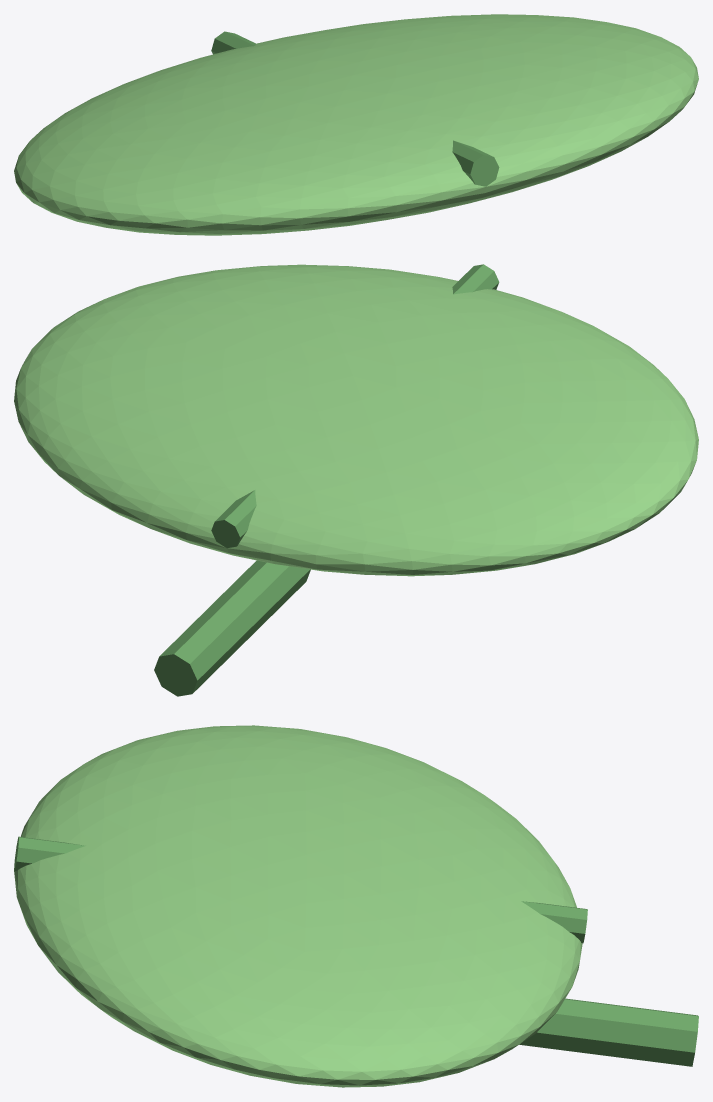
File: leaf.glb
3 views of the same model, one above another, from view 1: azimuth 30°, elevation 25°; view 2: azimuth 150°, elevation 25°; view 3: azimuth 270°, elevation 25° (orthographic). The views are drawn at different scales.
Parts seen in each view (by area): view 1: leaf_body, leaf_center_vein; view 2: leaf_body, leaf_stem, leaf_center_vein; view 3: leaf_body, leaf_stem, leaf_center_vein.
Part boxes in pixels (bbox=[...]): leaf_body: bbox=[14, 14, 698, 235]; leaf_center_vein: bbox=[211, 31, 499, 186]; leaf_body: bbox=[14, 264, 698, 576]; leaf_stem: bbox=[154, 560, 310, 696]; leaf_center_vein: bbox=[211, 264, 499, 548]; leaf_body: bbox=[14, 725, 582, 1087]; leaf_stem: bbox=[519, 998, 698, 1066]; leaf_center_vein: bbox=[14, 836, 587, 943].
Size of the model in its own units: 0.35 by 0.1098 by 0.2981.
